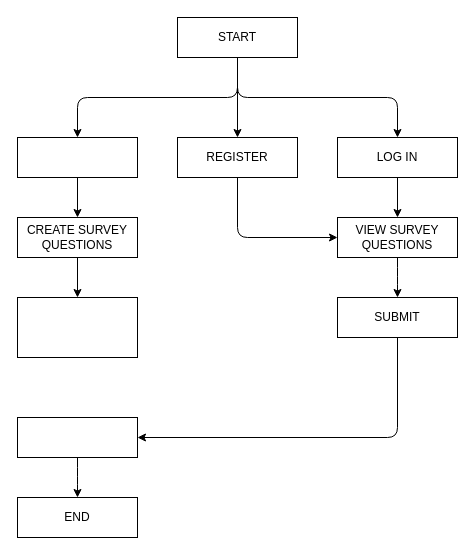
Some shapes in this 475 by 555 pixel diagram are drawn without their labels. Here are the shapes that lost their labels. From the top down, the box of each, then its label:
(16, 136, 138, 178): ADMIN
(16, 296, 138, 358): ALLOCATE TO REGISTERED USERS
(16, 416, 138, 458): VIEW RESPONSES
